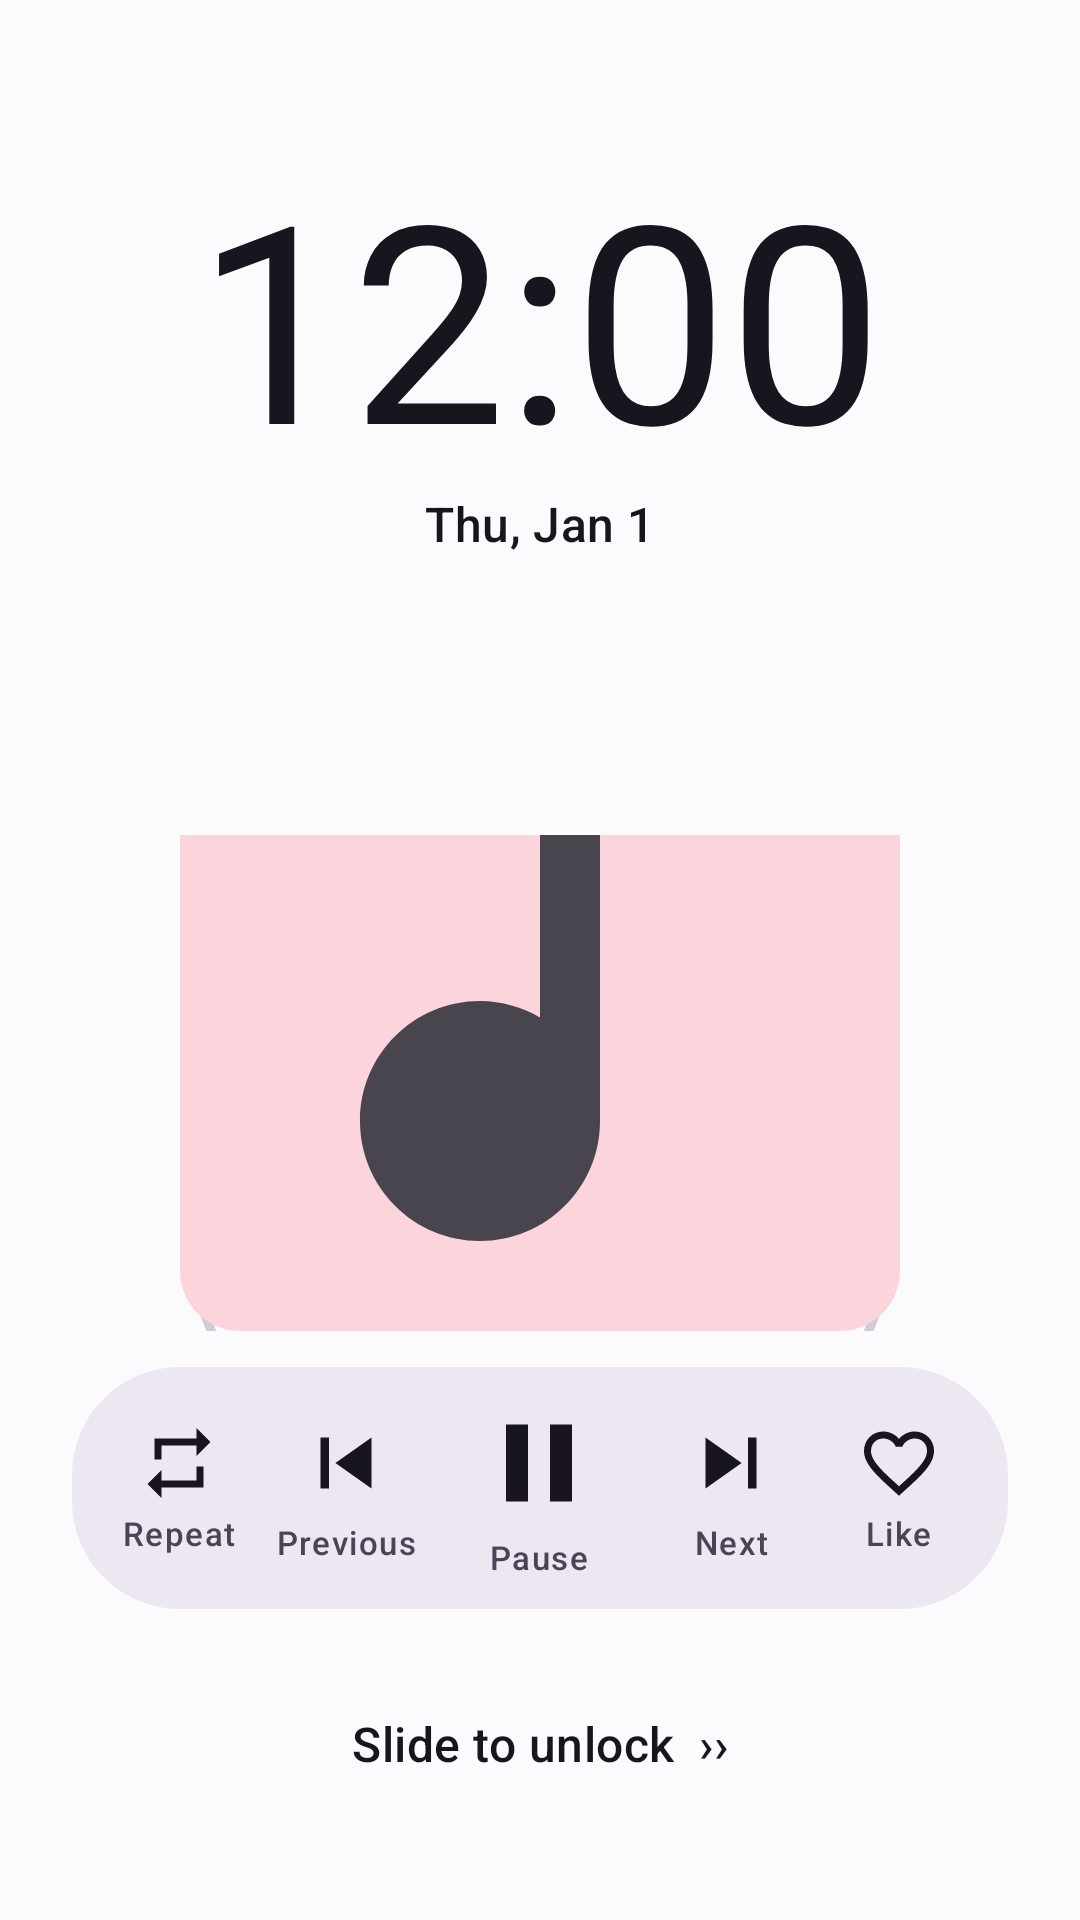

Locate icon controls on the screen. Image size 1080px x 1920px, boxes as (x1, y1, x2, y2).
favorite border: (864, 1431, 934, 1496)
